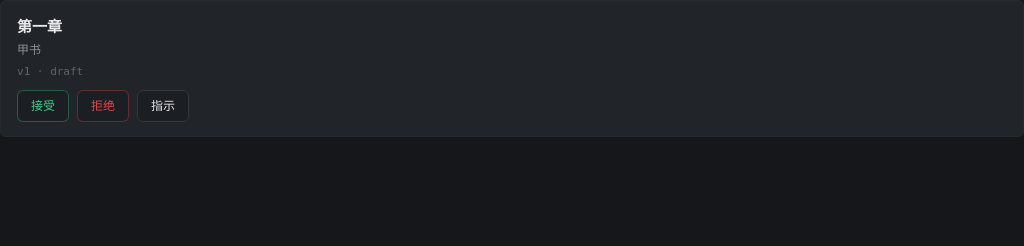
Test: PendingDraftItem two-step confirmation › keeps the item and note content intact when the decision fails
Click the button "指示": (163, 106) 137,90 -> 189,122
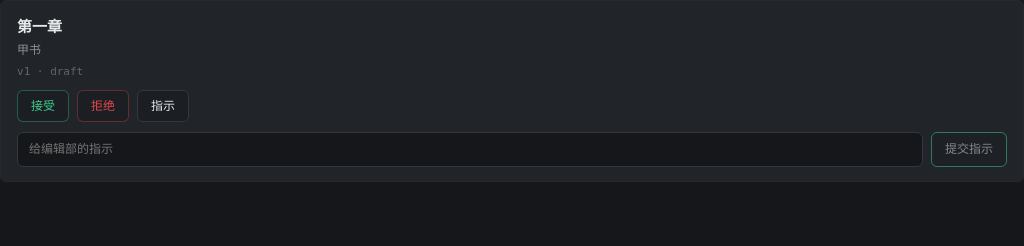
In the field named "拍板指示内容": (470, 150) 17,132 -> 923,167, type "方向没问题"
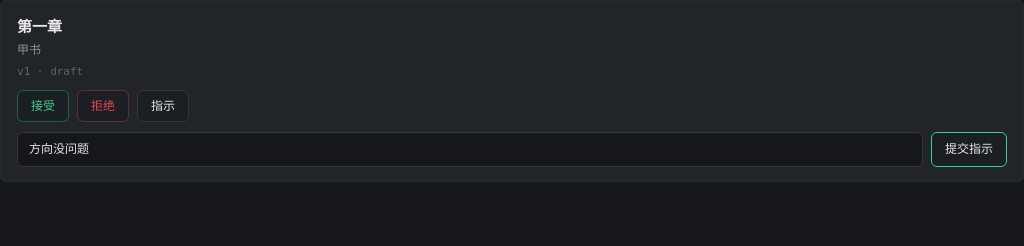
Click the button "提交指示": (969, 150) 931,132 -> 1007,167
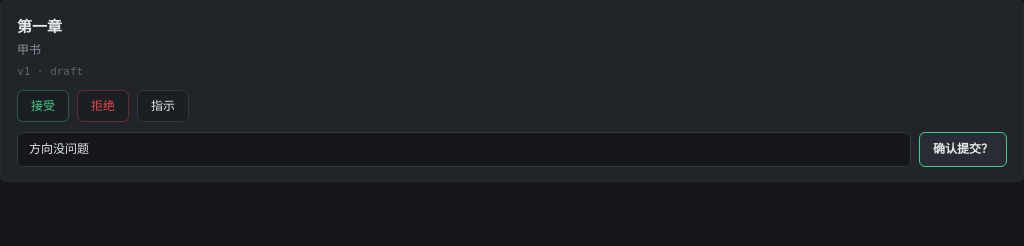
Click the button "确认提交？": (963, 150) 919,132 -> 1007,167
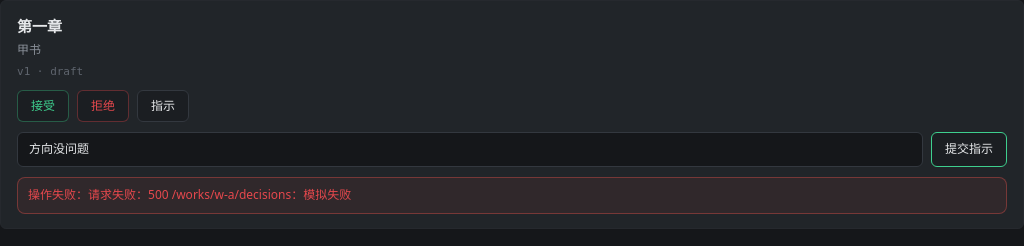
Expected: the text "第一章" is shown, 17,15 -> 62,38
Now the message with test id "pending-error" shows "模拟失败", box 88,186 -> 351,203
Now the button "提交指示" is shown, box 931,132 -> 1007,167
